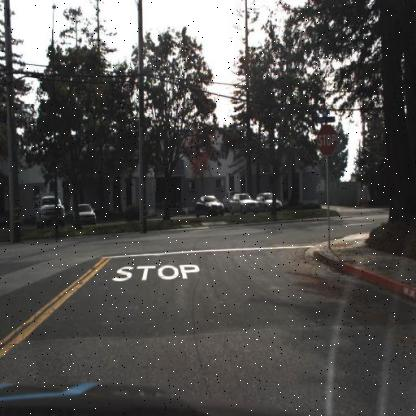car: (32, 189, 66, 225), (228, 191, 260, 216), (73, 198, 98, 226), (194, 195, 224, 218), (261, 189, 283, 215)
